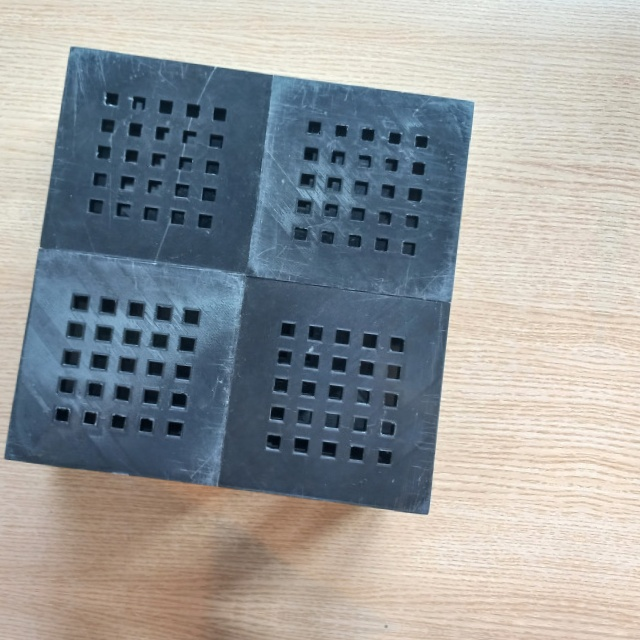pallet: (2, 43, 477, 518)
